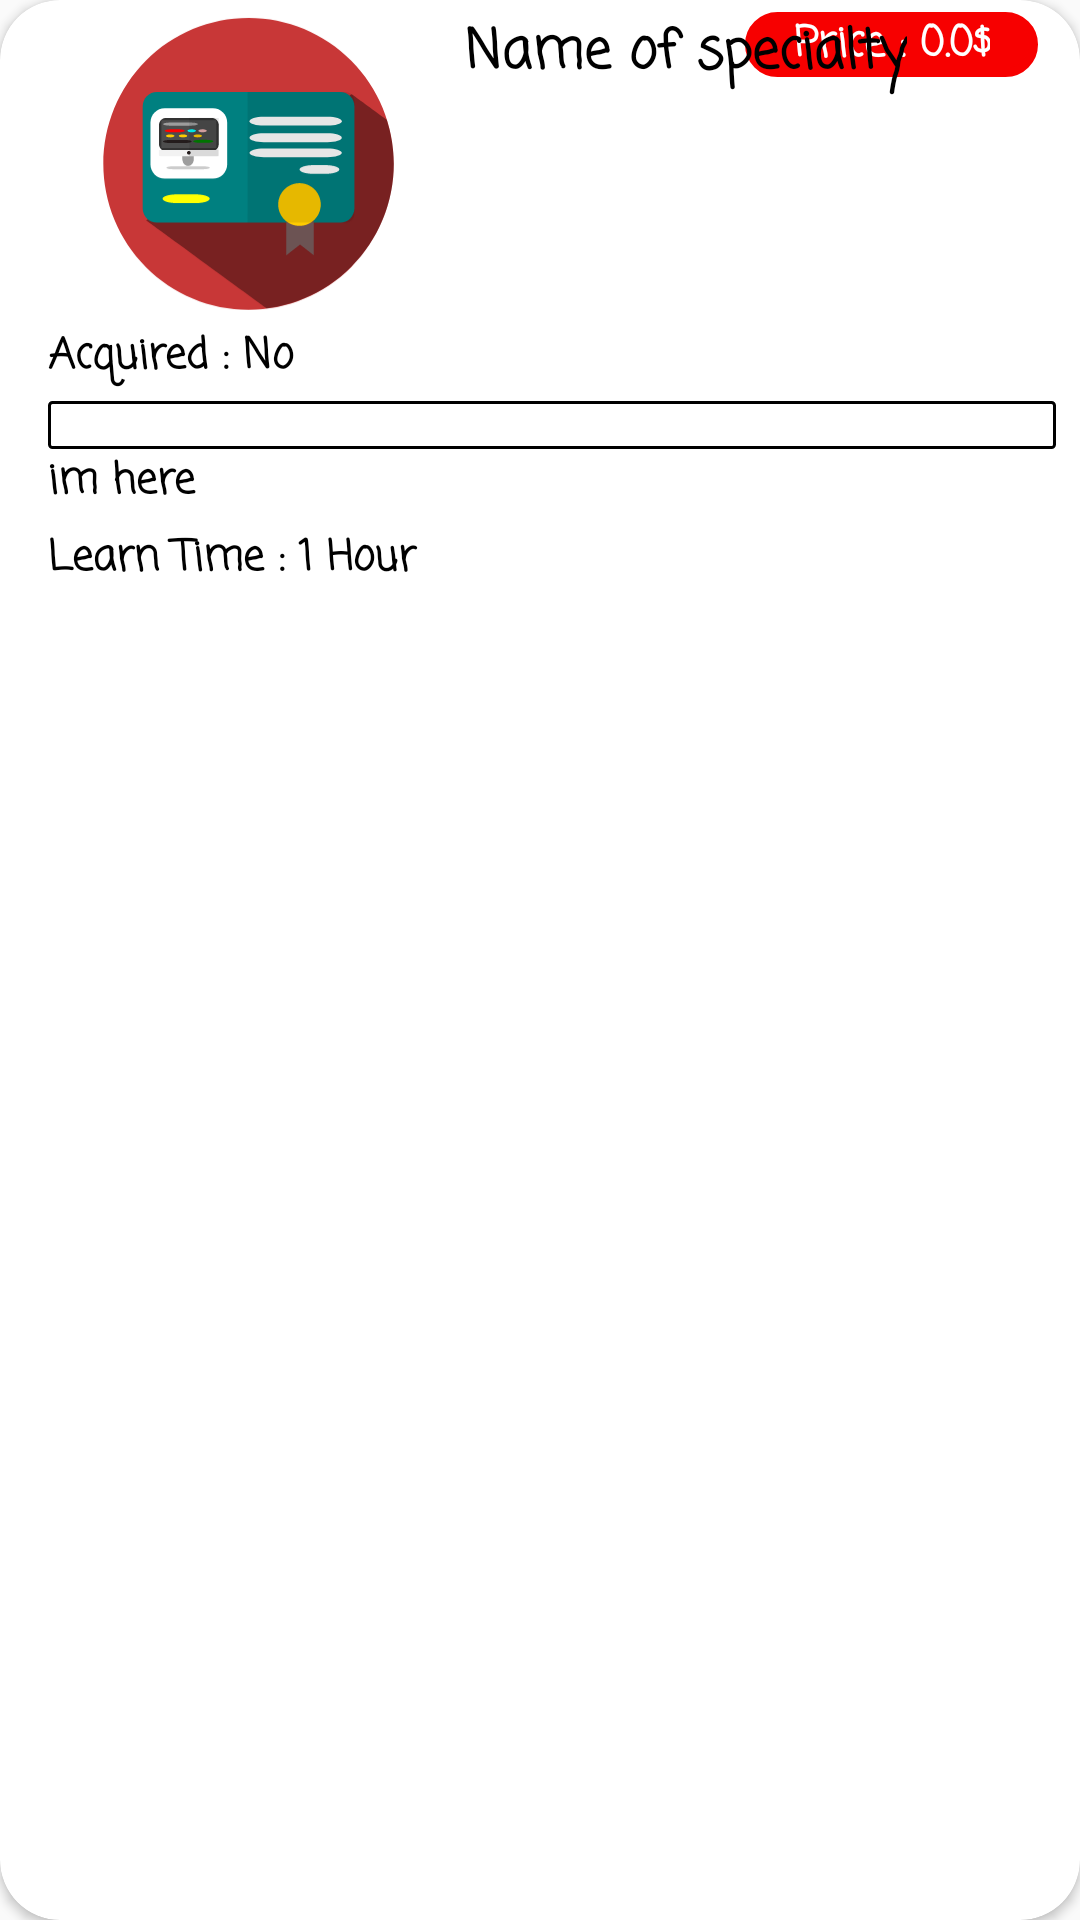

Icons on this 1080px×1920px Android screen, each with its box as box(x1, y1, x2, y2):
programming licence: box(103, 18, 394, 310)
